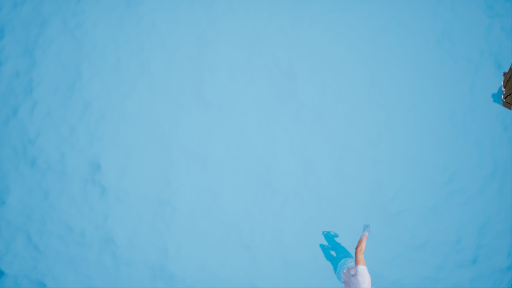person: (315, 223, 376, 288)
